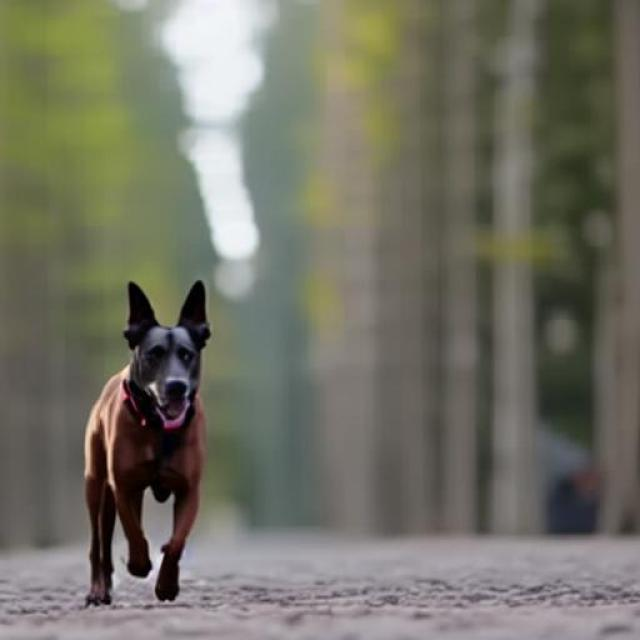Dog: (85, 280, 213, 610)
